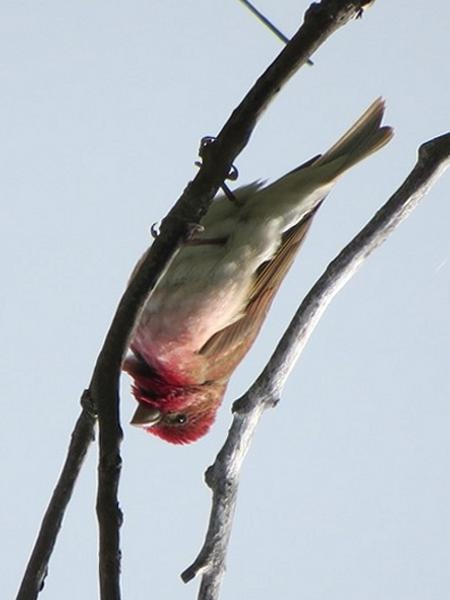rosefinch: (126, 88, 379, 462)
